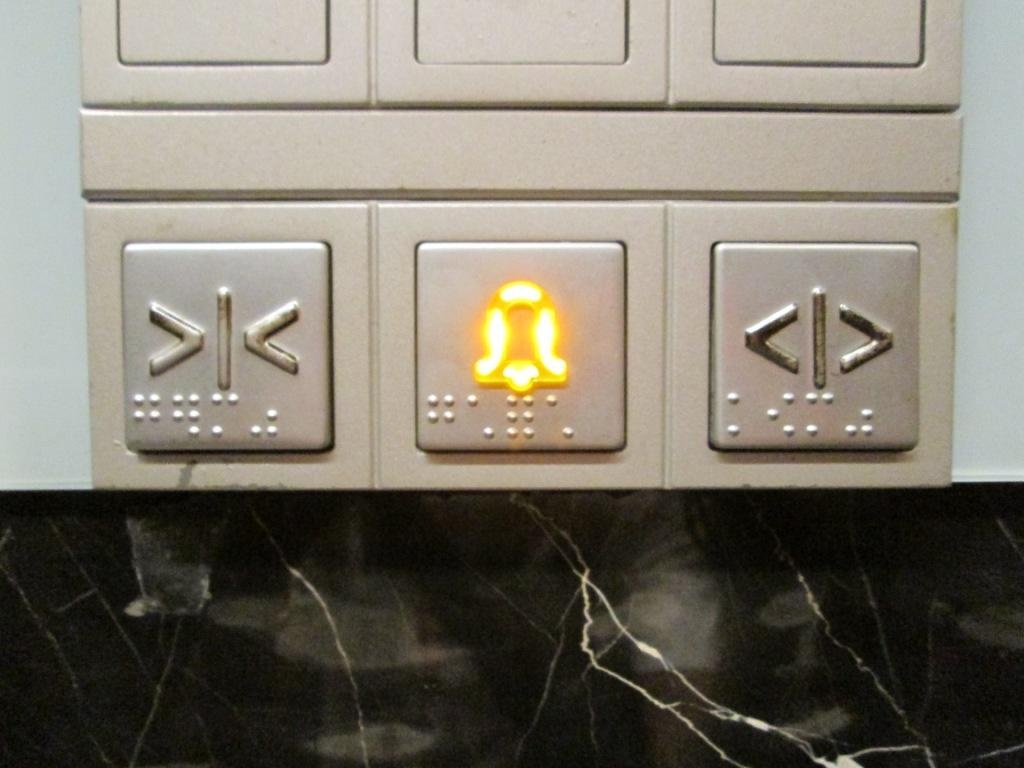alarm: (374, 197, 667, 496)
close: (86, 200, 374, 492)
open: (670, 200, 957, 492)
